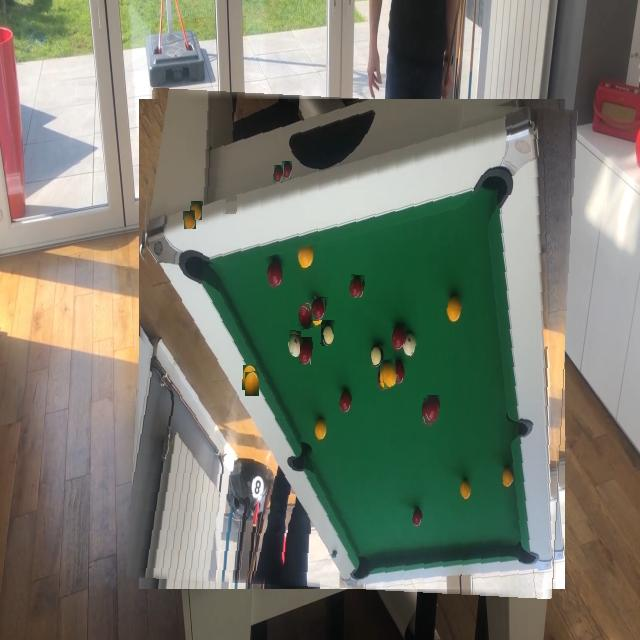Ball: (382, 360, 397, 388), (297, 304, 313, 330), (426, 395, 440, 423), (395, 416, 412, 439), (245, 371, 259, 396), (299, 340, 313, 365), (349, 275, 363, 298), (321, 322, 334, 346), (312, 299, 326, 321), (289, 334, 301, 357), (373, 246, 385, 267), (184, 210, 196, 229), (226, 195, 237, 214), (273, 165, 284, 183)
Billiard table: (133, 94, 572, 594)
